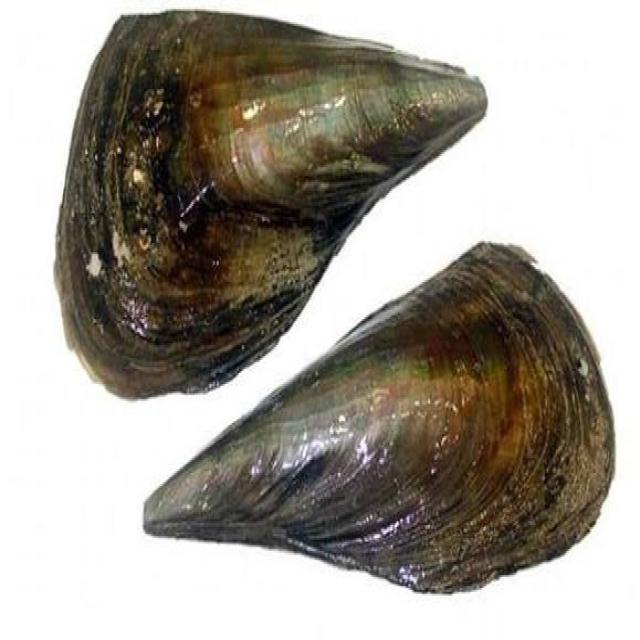comb_pen_shell: (125, 219, 634, 620), (38, 3, 499, 411)
